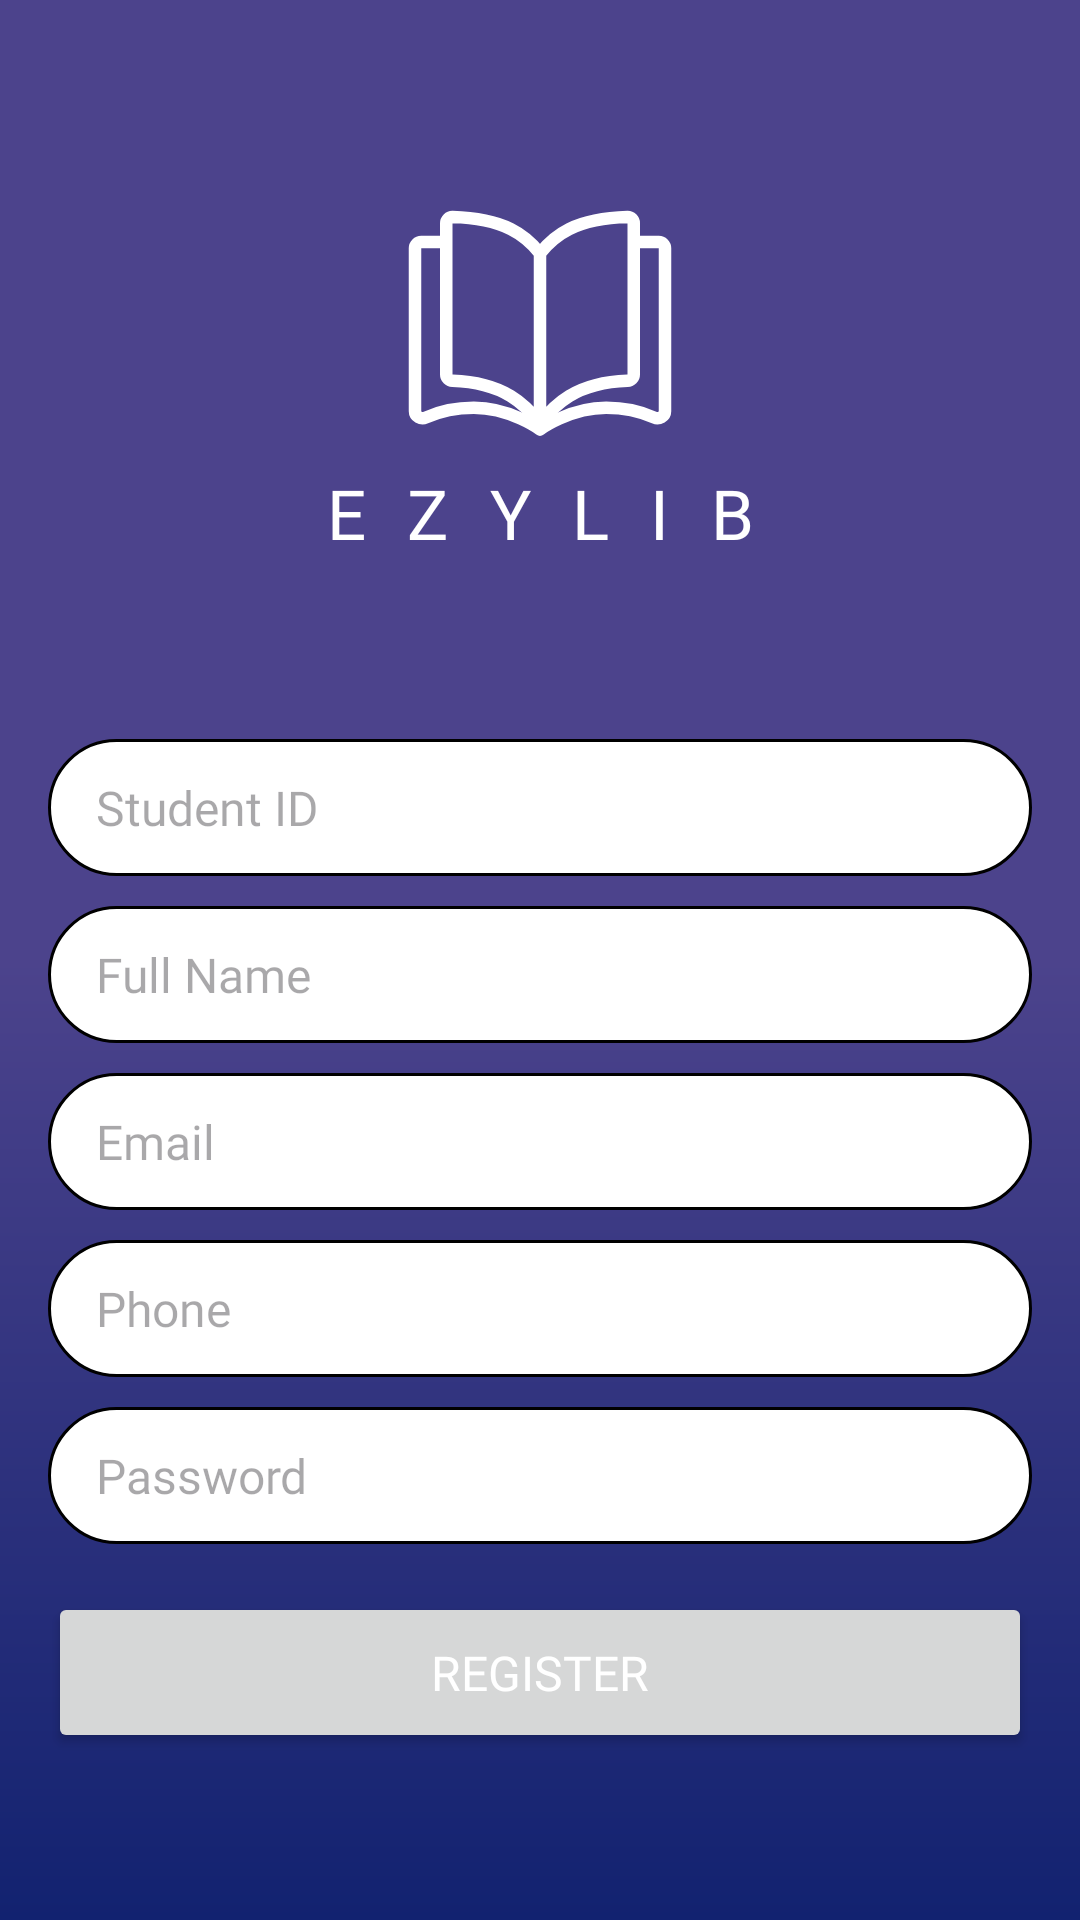

Locate icon controls on the screen. Image size 1080 x 1920, boxes as (x1, y1, x2, y2).
book: (408, 210, 672, 436)
